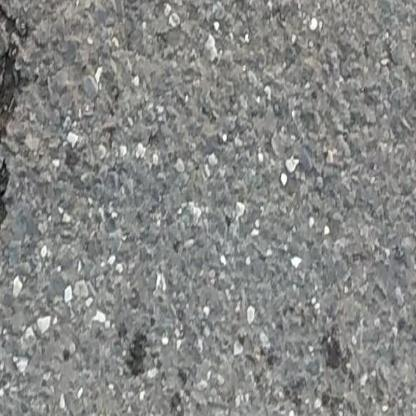Cracks: (0, 0, 36, 274)
